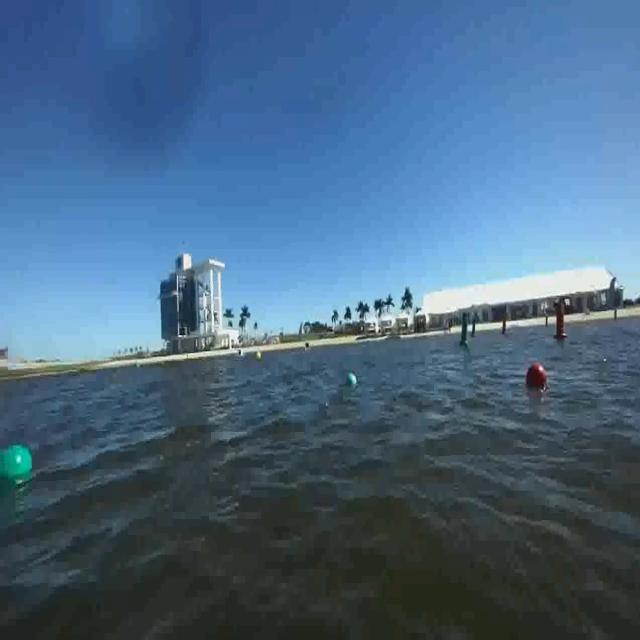green-buoy: (0, 437, 40, 507), (342, 372, 360, 390)
green-column-buoy: (458, 310, 471, 347)
red-buoy: (528, 362, 550, 388)
red-column-buoy: (554, 302, 568, 341)
yellow-buoy: (255, 351, 262, 362)
